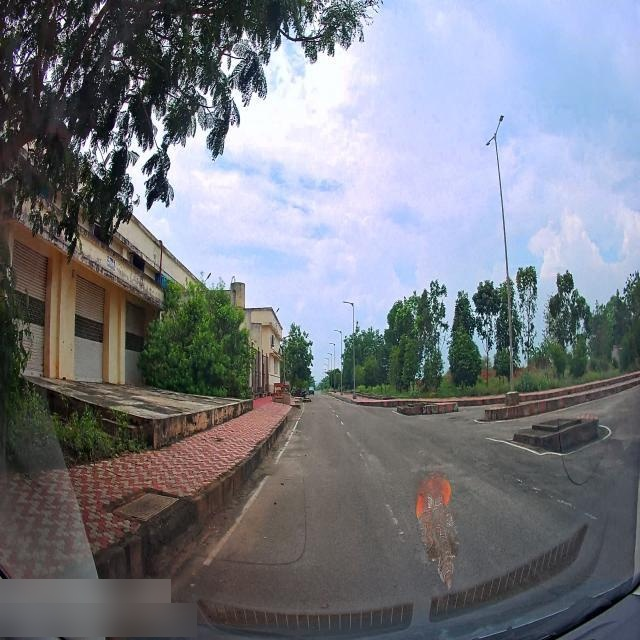pothole: (463, 418, 472, 424), (449, 416, 457, 422)
